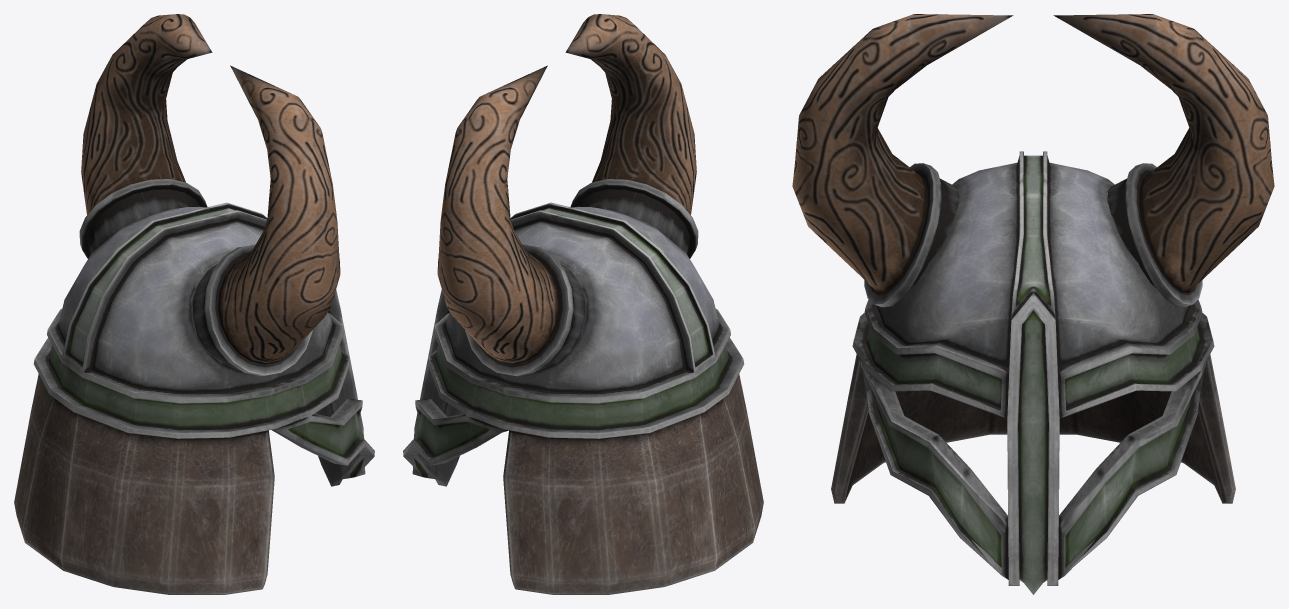
File: Iron_Helmet.fbx
3 renders of one model, left to right at view 1: azimuth 30°, elevation 25°; view 2: azimuth 150°, elevation 25°; view 3: azimuth 270°, elevation 25°, orthographic. The views are drawn at different scales.
Parts seen in each view (by area): view 1: Iron_Helmet; view 2: Iron_Helmet; view 3: Iron_Helmet.
Boxes of the visible parts, x1,y1,x2,y2 form: Iron_Helmet: [14, 14, 374, 594]; Iron_Helmet: [403, 14, 763, 594]; Iron_Helmet: [792, 14, 1274, 594].
Size of the model in its own units: 66.24 by 92.67 by 78.3.
